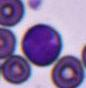L: (21, 23, 63, 66)
